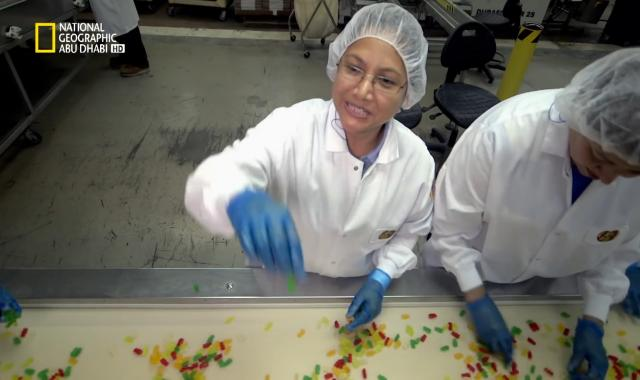hairnet: (327, 2, 425, 106), (573, 46, 640, 180)
